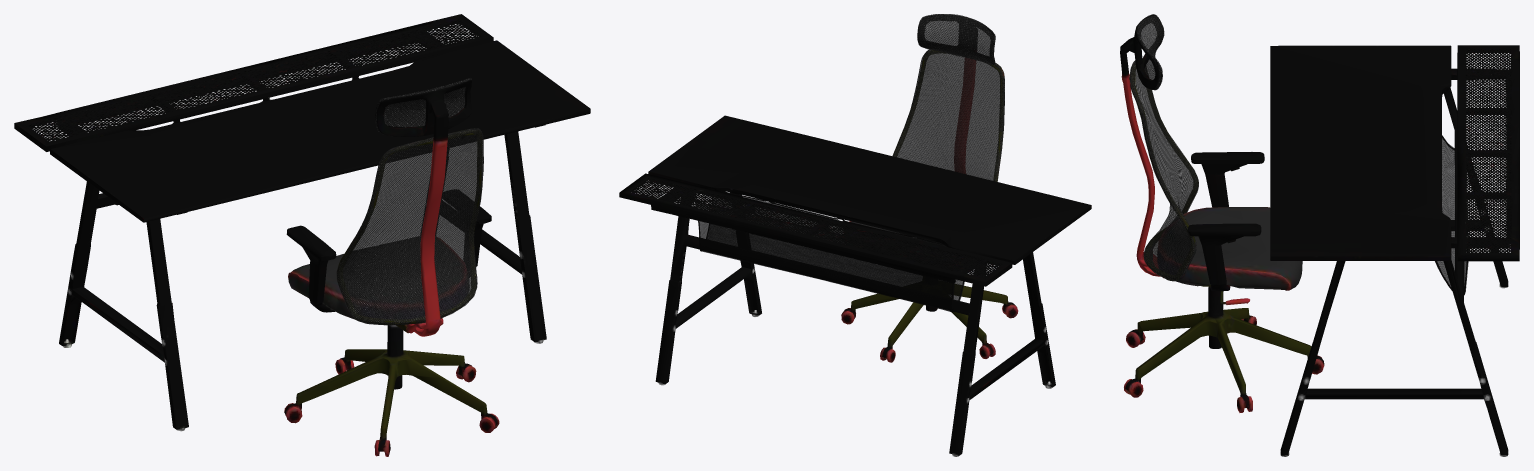
The model's file is 77 - UTESPELAREMATCHSPEL - 電競桌椅, 黑色 IKEA 線上購物.glb.
The picture shows the model from 3 angles, left to right: view 1: azimuth 30°, elevation 25°; view 2: azimuth 150°, elevation 25°; view 3: azimuth 270°, elevation 25°; orthographic projection. The views are drawn at different scales.
Visible parts, largest first — view 1: ProcessedMeshNode; view 2: ProcessedMeshNode; view 3: ProcessedMeshNode.
Part boxes in pixels (box(x1,y1,x2,y2)): ProcessedMeshNode: box(14, 14, 590, 456); ProcessedMeshNode: box(619, 14, 1091, 456); ProcessedMeshNode: box(1120, 14, 1519, 456).
Bounding box in the file's own units: 1.6 × 1.21 × 1.28.
2 materials, 2 textured.
